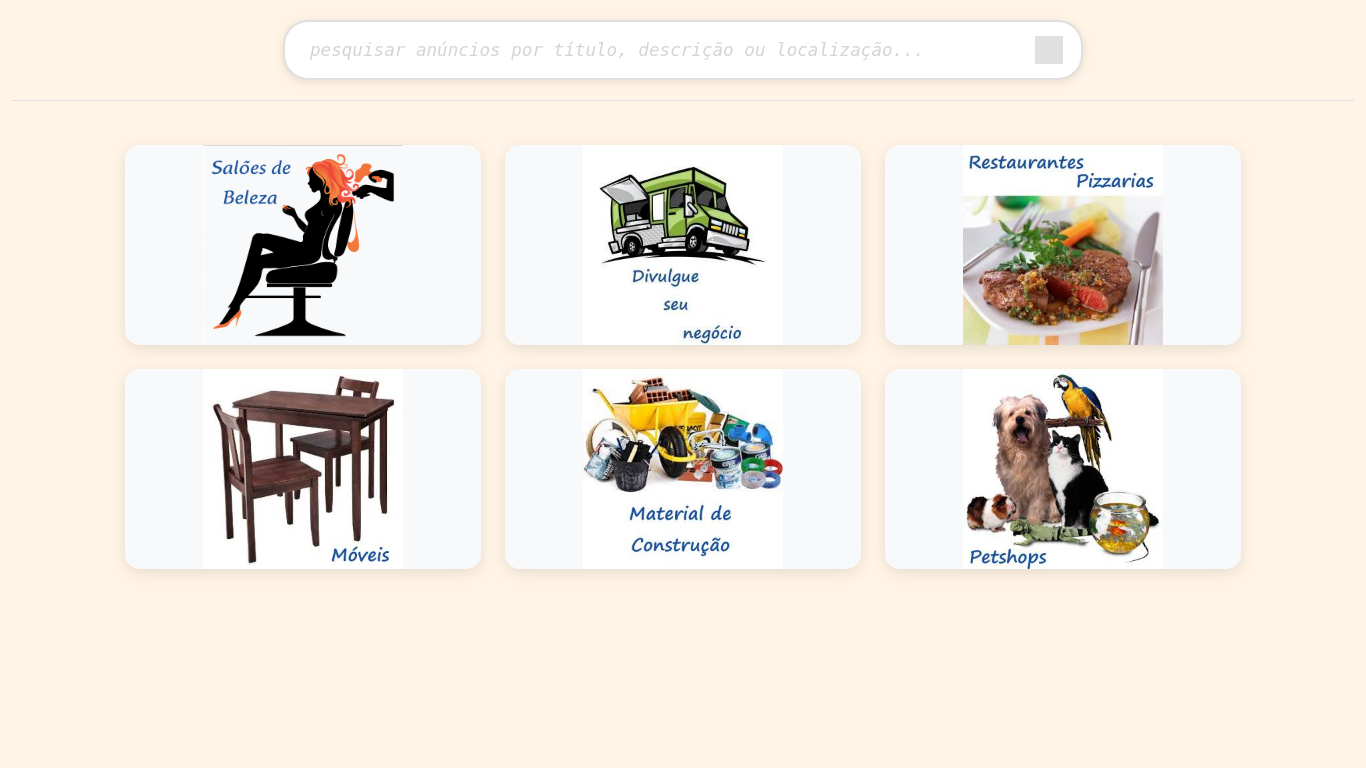
Test case: Home › Category Navigation › shows categories again when search is cleared
The width and height of the screenshot is (1366, 768).
First search
In the field with placeholder "pesquisar anúncios por título, descrição ou localização...": x=683, y=50 [283, 20, 1083, 80], type "test"
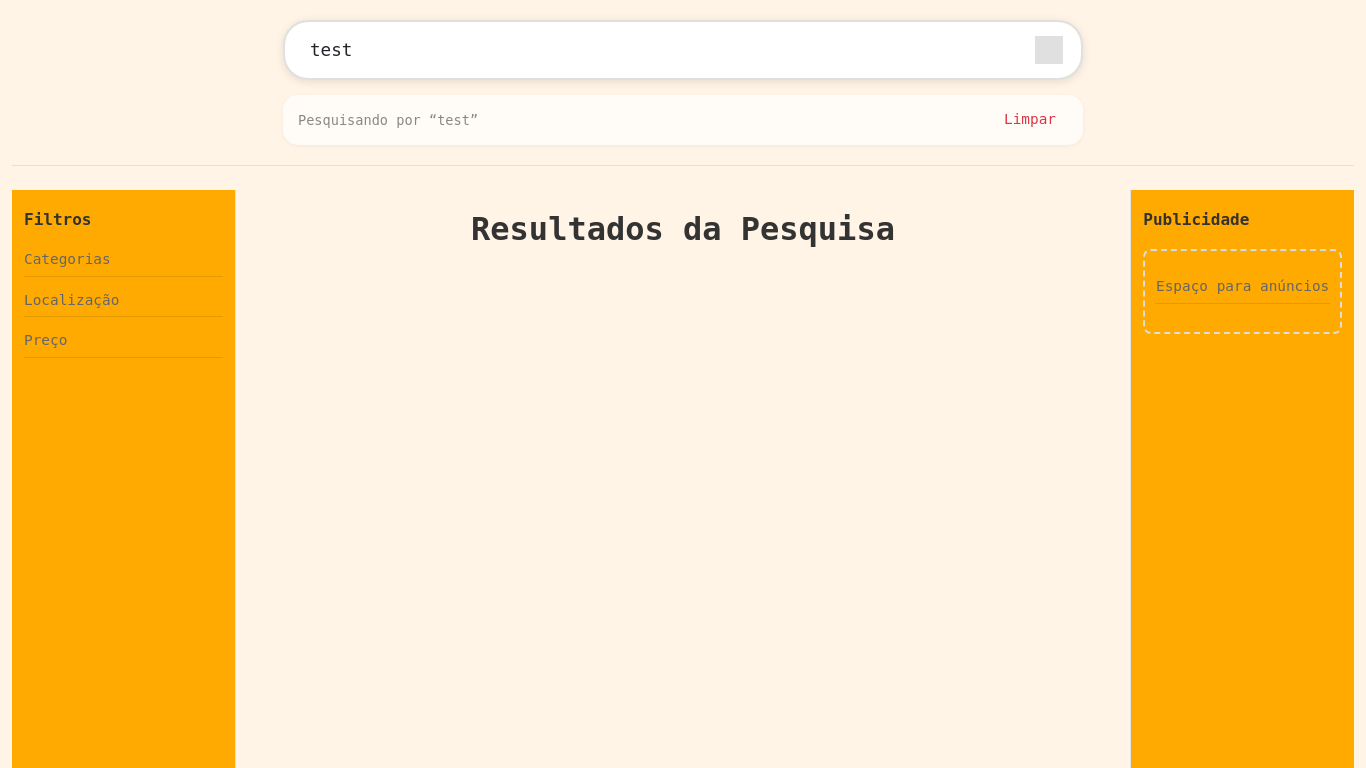
Clear search
Clear the field with placeholder "pesquisar anúncios por título, descrição ou localização...": x=683, y=50 [283, 20, 1083, 80]
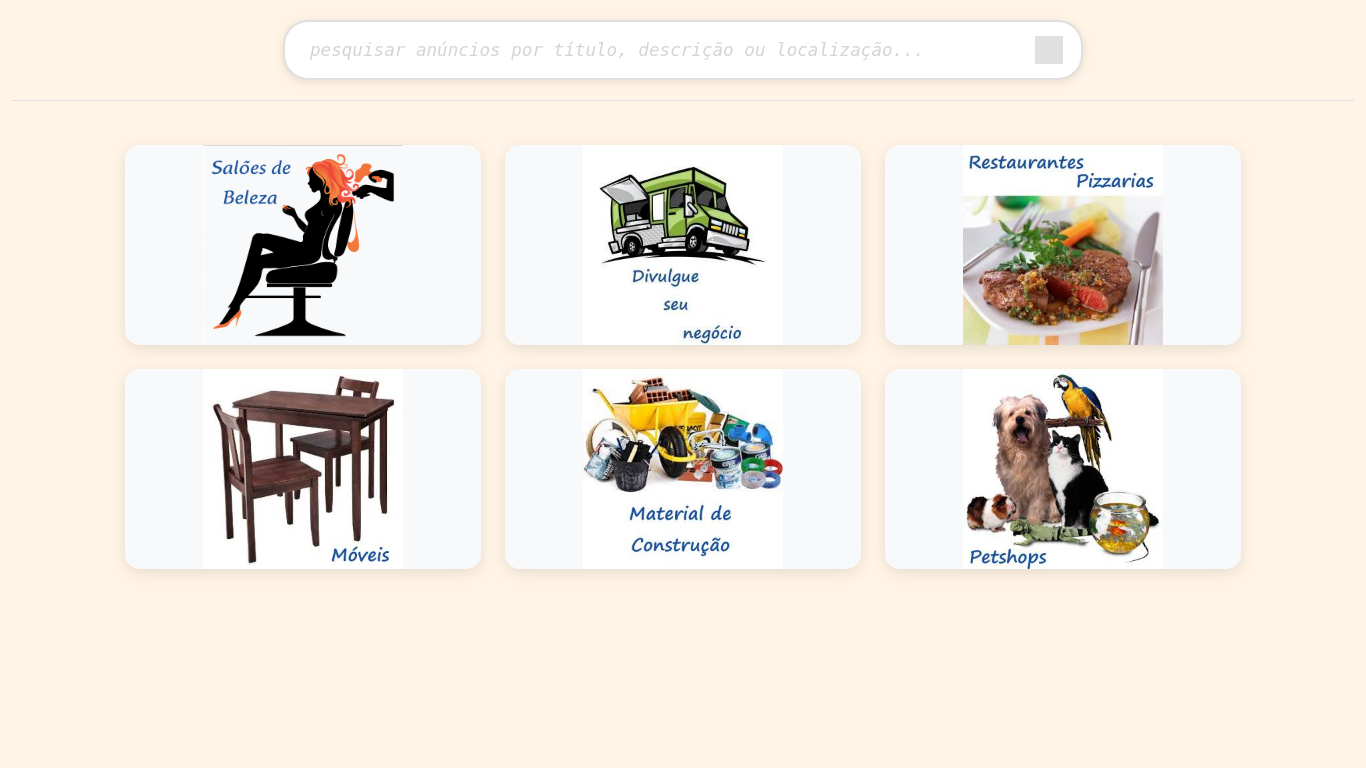
Check: the picture with alt text "beleza e estética" is shown, box [125, 145, 481, 345]
